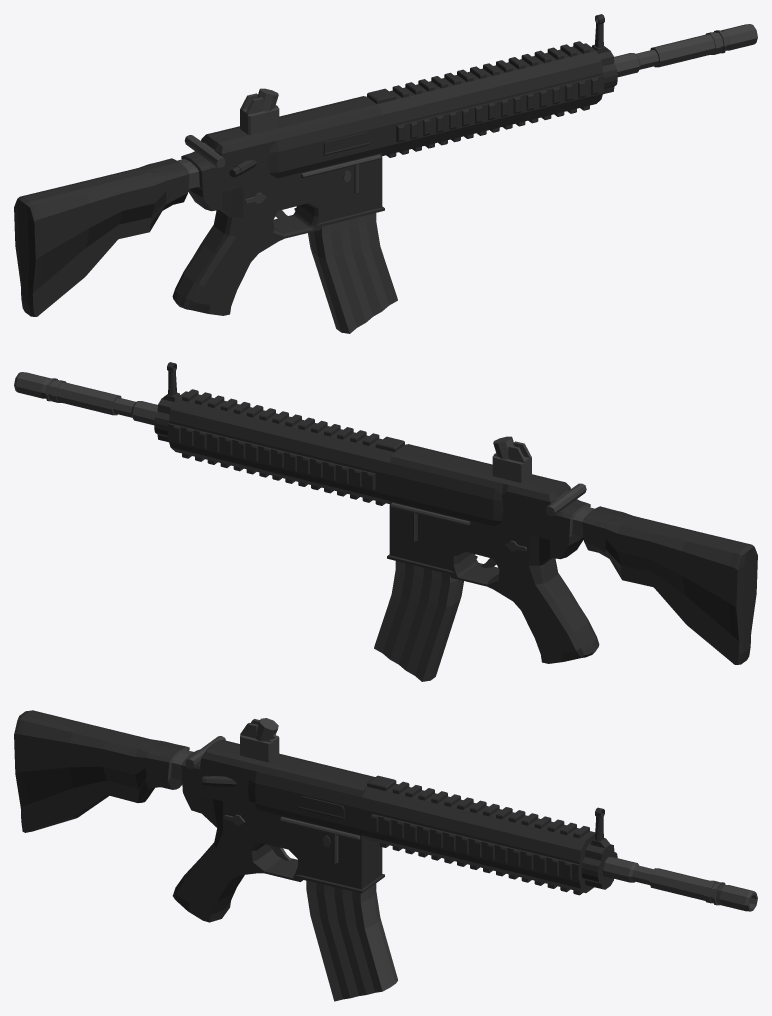
The model's file is TestRifle.fbx.
The picture shows the model from 3 angles, top to bottom: view 1: azimuth 30°, elevation 25°; view 2: azimuth 150°, elevation 25°; view 3: azimuth 330°, elevation 25°; orthographic projection.
Parts seen in each view (by area): view 1: MAR_3, Magazine, Bolt; view 2: MAR_3, Magazine, Bolt; view 3: MAR_3, Magazine.
Part boxes in pixels (left/top/right/bottom): MAR_3: left=14, top=14, right=757, bottom=316; Magazine: left=308, top=213, right=397, bottom=333; Bolt: left=184, top=135, right=225, bottom=167; MAR_3: left=14, top=362, right=757, bottom=664; Magazine: left=374, top=561, right=463, bottom=681; Bolt: left=546, top=483, right=586, bottom=516; MAR_3: left=14, top=710, right=757, bottom=922; Magazine: left=306, top=880, right=397, bottom=1001.
Size of the model in its own units: 10.12 by 43.56 by 129.
1 material, 1 textured.
